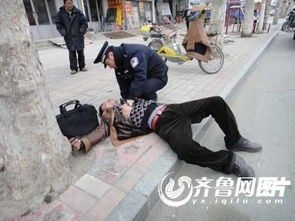falling: (58, 90, 267, 179)
